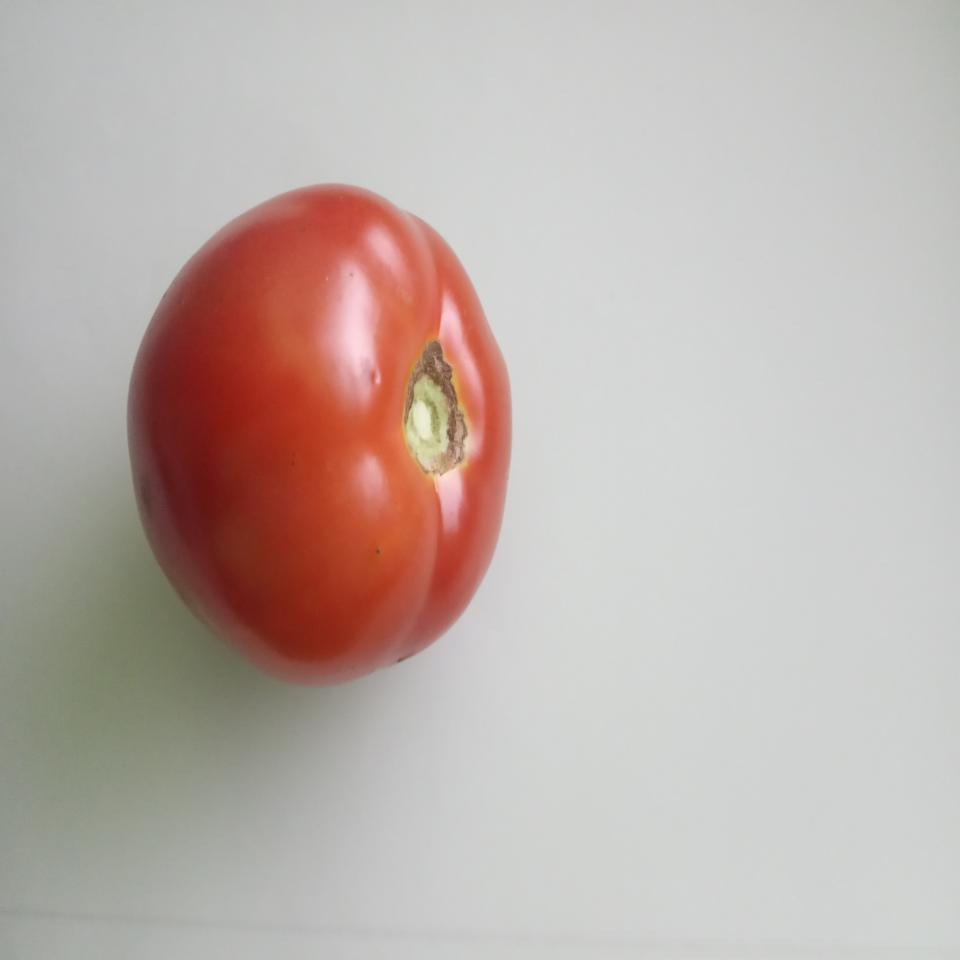Healthy: (125, 180, 515, 691)
